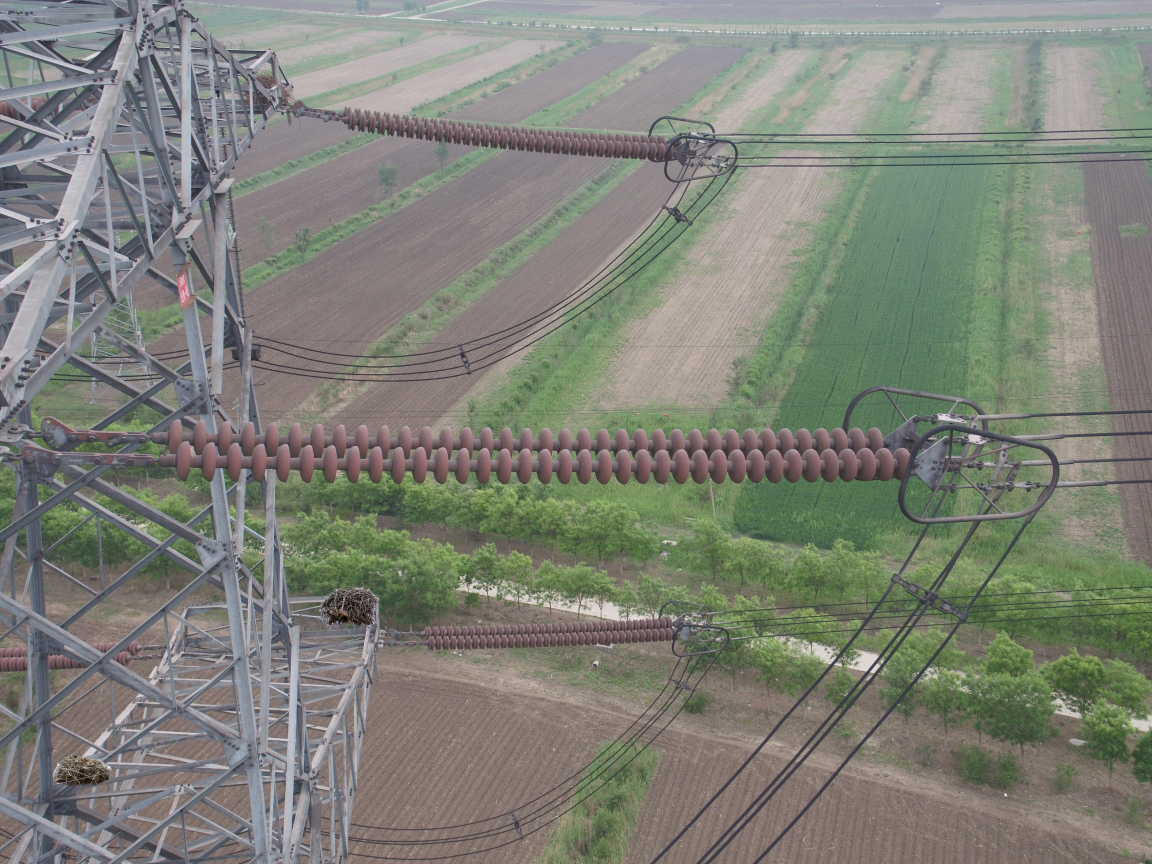nest: (318, 587, 381, 629), (48, 751, 116, 789)
